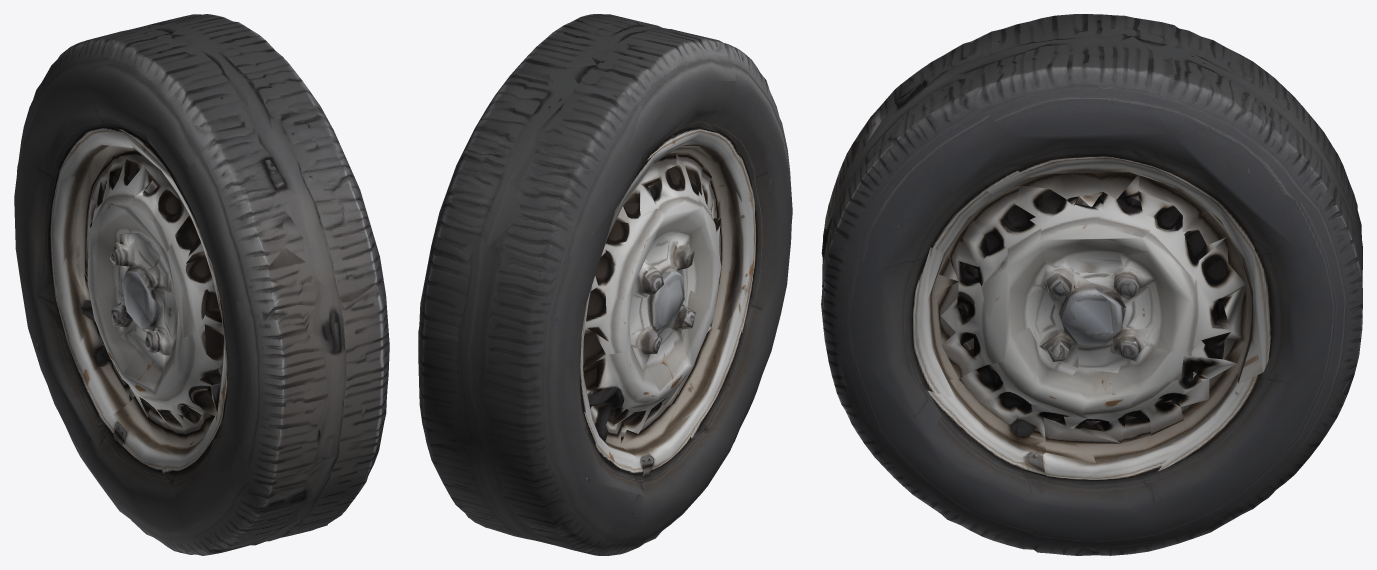
The model's file is steelie.obj.
3 renders of one model, left to right at view 1: azimuth 30°, elevation 25°; view 2: azimuth 150°, elevation 25°; view 3: azimuth 270°, elevation 25°, orthographic. The views are drawn at different scales.
Parts seen in each view (by area): view 1: wheel; view 2: wheel; view 3: wheel.
Part boxes in pixels (bbox=[...]): wheel: bbox=[14, 14, 389, 555]; wheel: bbox=[418, 14, 792, 555]; wheel: bbox=[821, 14, 1362, 555].
Size of the model in its own units: 0.2253 by 0.6961 by 0.6973.
